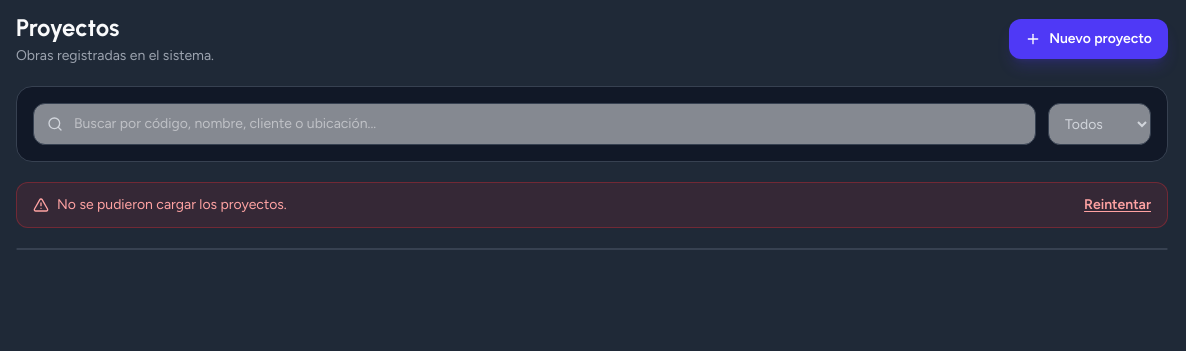
Scenario: ProjectsPage › estado de error con botón de reintentar
Expected: the text "No se pudieron cargar los proyectos." is shown, [33, 195, 287, 215]
Step 1. Click the button "Reintentar" → (1118, 205), box [1084, 195, 1151, 215]
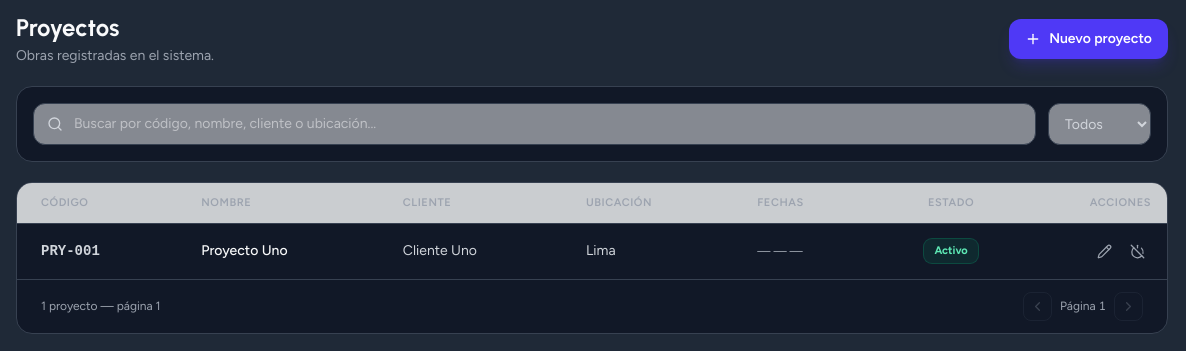
Expected: the text "Proyecto Uno" is shown, [177, 224, 379, 279]
